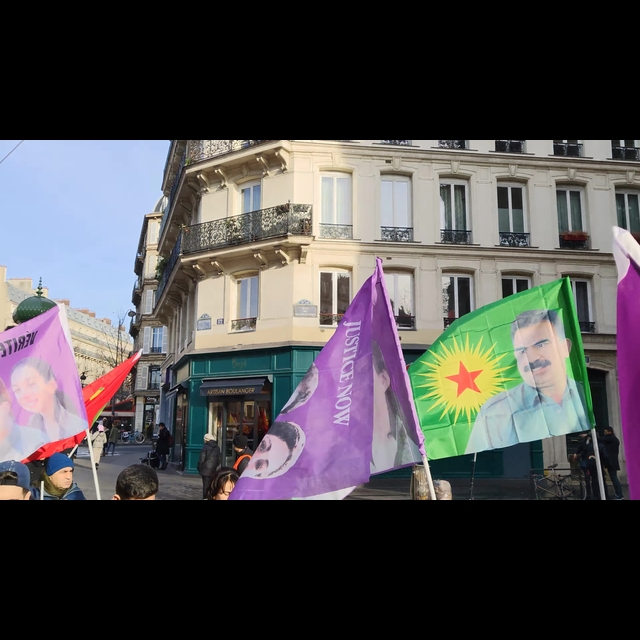APO: (508, 306, 568, 397)
KCK: (419, 338, 509, 425)
